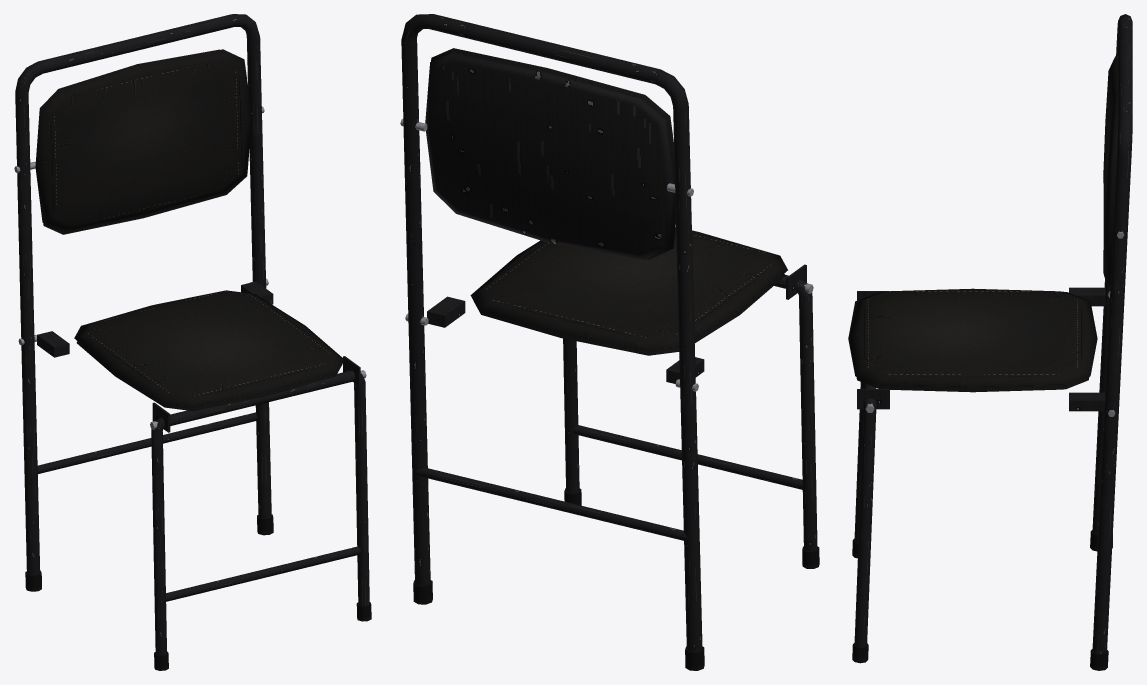
Rendered from chair.glb.
The picture shows the model from 3 angles, left to right: view 1: azimuth 30°, elevation 25°; view 2: azimuth 150°, elevation 25°; view 3: azimuth 270°, elevation 25°; orthographic projection. The views are drawn at different scales.
Visible parts, largest first — view 1: chair; view 2: chair; view 3: chair.
Boxes of the visible parts, <box> form: chair: <box>14,14,371,670</box>; chair: <box>400,14,819,670</box>; chair: <box>848,14,1132,670</box>.
Bounding box in the file's own units: 0.453 × 0.901 × 0.429.
Materials: 6 (6 with a texture image).
